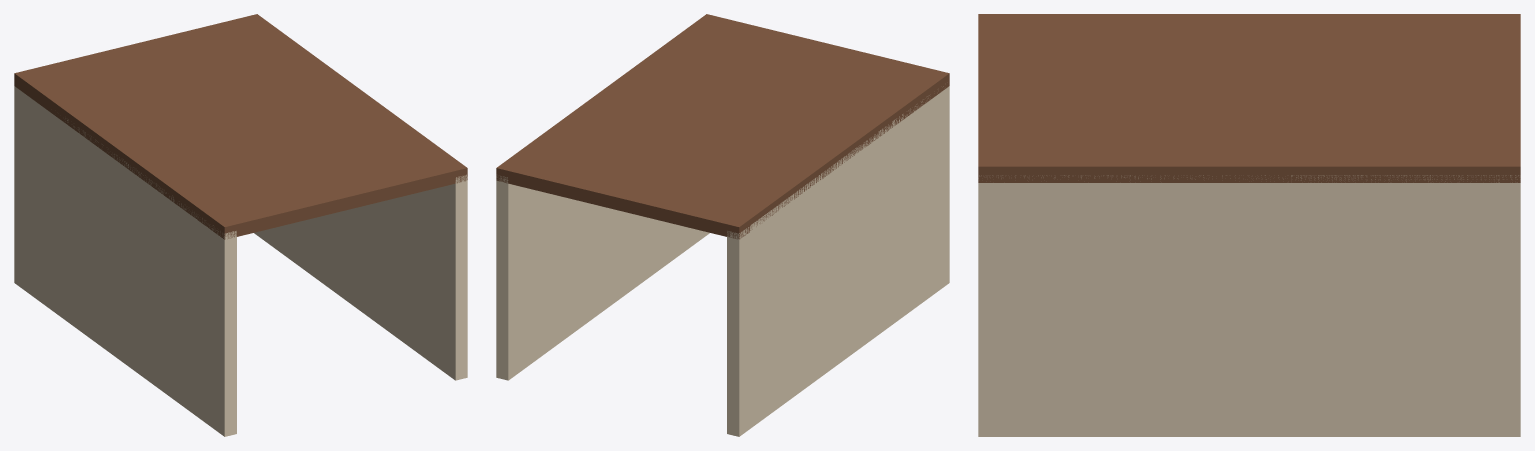
The model's file is bh_souq_covered_passage_01_lod0.glb.
The picture shows the model from 3 angles, left to right: view 1: azimuth 30°, elevation 25°; view 2: azimuth 150°, elevation 25°; view 3: azimuth 270°, elevation 25°; orthographic projection. The views are drawn at different scales.
Parts seen in each view (by area): view 1: bh_souq_covered_passage_01_roof, bh_souq_covered_passage_01_wall_l, bh_souq_covered_passage_01_wall_r; view 2: bh_souq_covered_passage_01_roof, bh_souq_covered_passage_01_wall_l, bh_souq_covered_passage_01_wall_r; view 3: bh_souq_covered_passage_01_wall_r, bh_souq_covered_passage_01_roof.
Part boxes in pixels (x1,y1,x2,y2): bh_souq_covered_passage_01_roof: [14, 14, 467, 239]; bh_souq_covered_passage_01_wall_l: [14, 86, 236, 436]; bh_souq_covered_passage_01_wall_r: [254, 174, 467, 380]; bh_souq_covered_passage_01_roof: [496, 14, 949, 239]; bh_souq_covered_passage_01_wall_l: [727, 86, 949, 436]; bh_souq_covered_passage_01_wall_r: [496, 176, 709, 380]; bh_souq_covered_passage_01_wall_r: [978, 175, 1520, 436]; bh_souq_covered_passage_01_roof: [978, 14, 1520, 182].
Bounding box in the file's own units: 4 × 3.3 × 6.
